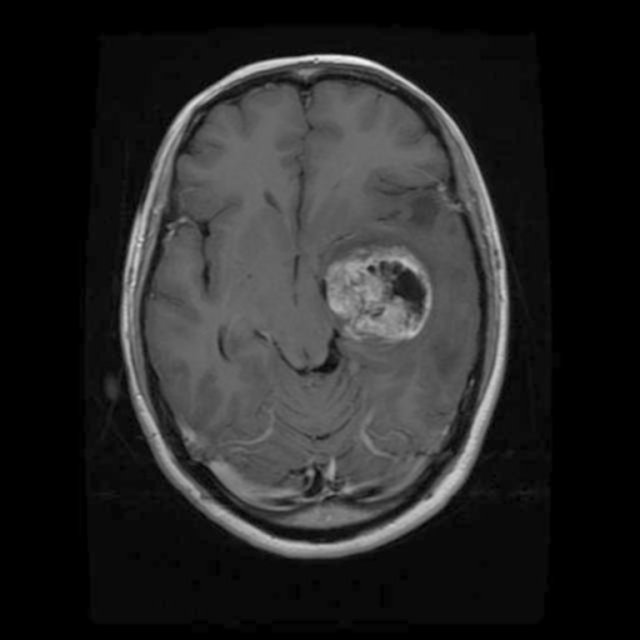pituitary tumor: (324, 242, 430, 338)
